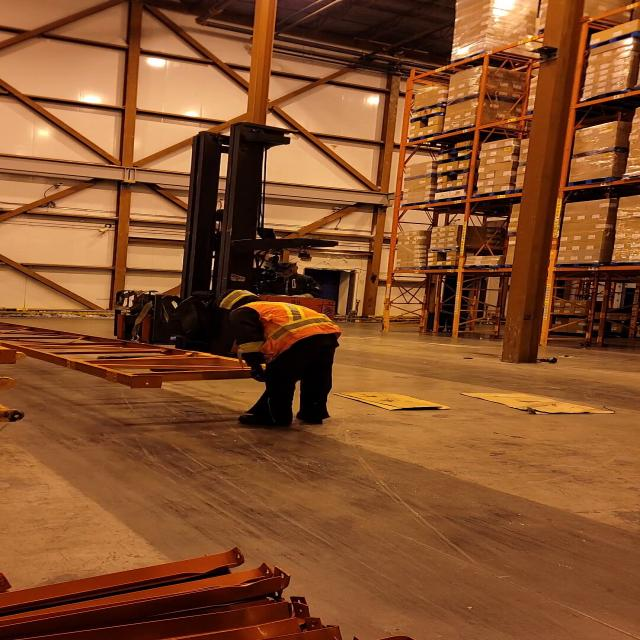forklift: (94, 130, 338, 379)
human: (206, 286, 344, 429), (260, 255, 328, 298)
objectofinterest: (1, 322, 305, 390), (457, 388, 621, 417), (331, 389, 450, 413)
